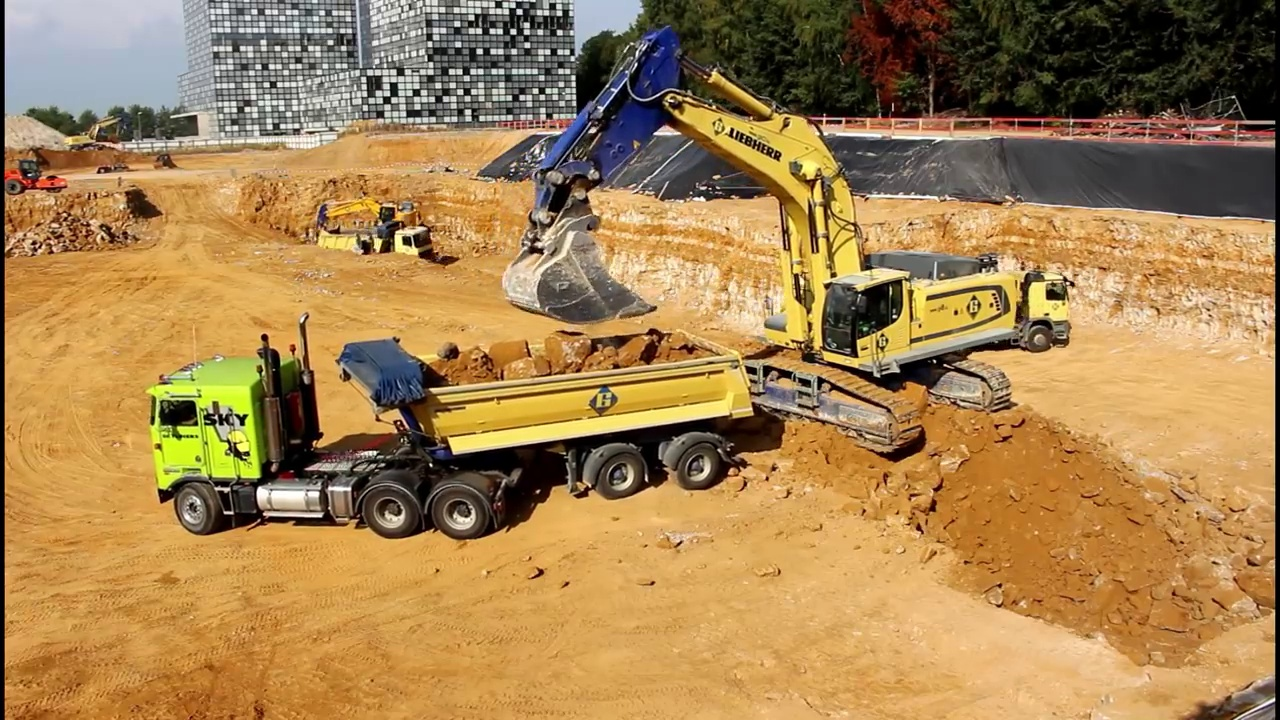compactor: (4, 157, 70, 195)
excavator: (495, 20, 1019, 457), (305, 190, 430, 258), (64, 112, 130, 158)
truck: (140, 306, 763, 544), (801, 244, 1081, 369), (315, 224, 442, 278)
